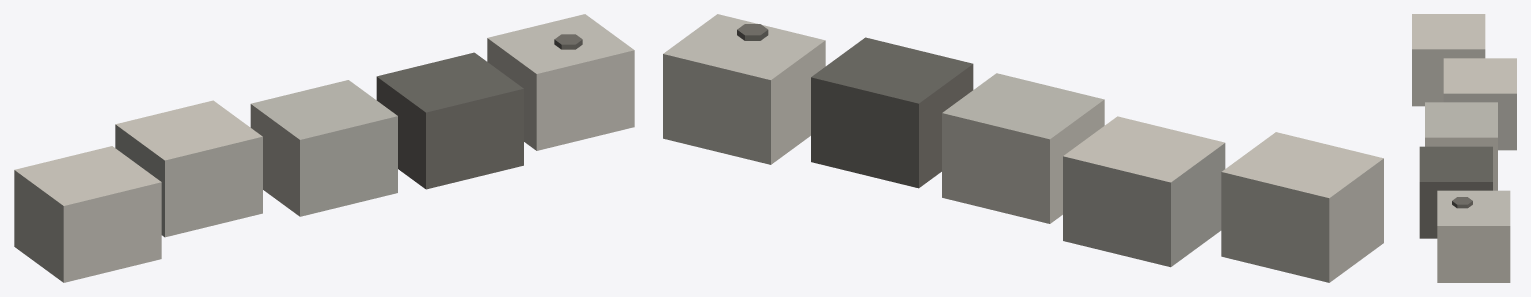
File: walk_prop_goods_stone.glb
3 views of the same model, side by side, from view 1: azimuth 30°, elevation 25°; view 2: azimuth 150°, elevation 25°; view 3: azimuth 270°, elevation 25° (orthographic). The views are drawn at different scales.
Parts seen in each view (by area): view 1: walk_prop_goods_stone; view 2: walk_prop_goods_stone; view 3: walk_prop_goods_stone.
Part boxes in pixels (x1,y1,x2,y2): walk_prop_goods_stone: [14, 14, 634, 282]; walk_prop_goods_stone: [663, 14, 1383, 282]; walk_prop_goods_stone: [1412, 14, 1516, 282].
Bounding box in the file's own units: 2.4 × 0.34 × 0.5013.
1 material, 1 textured.
